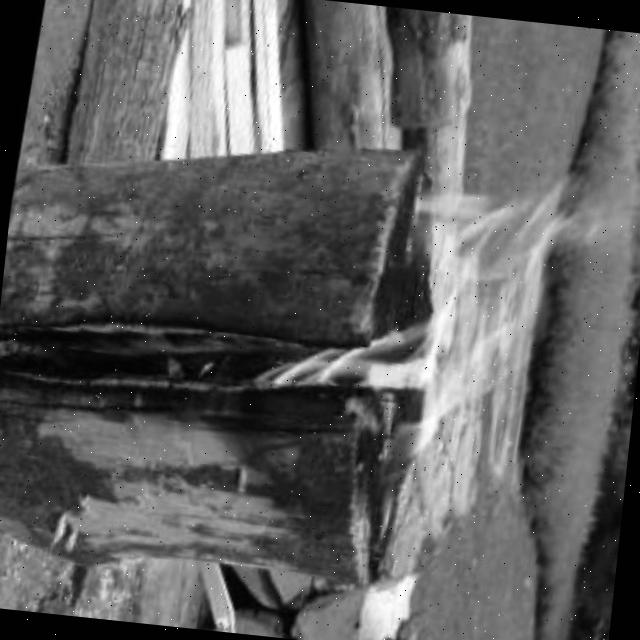fire: (236, 129, 628, 583)
